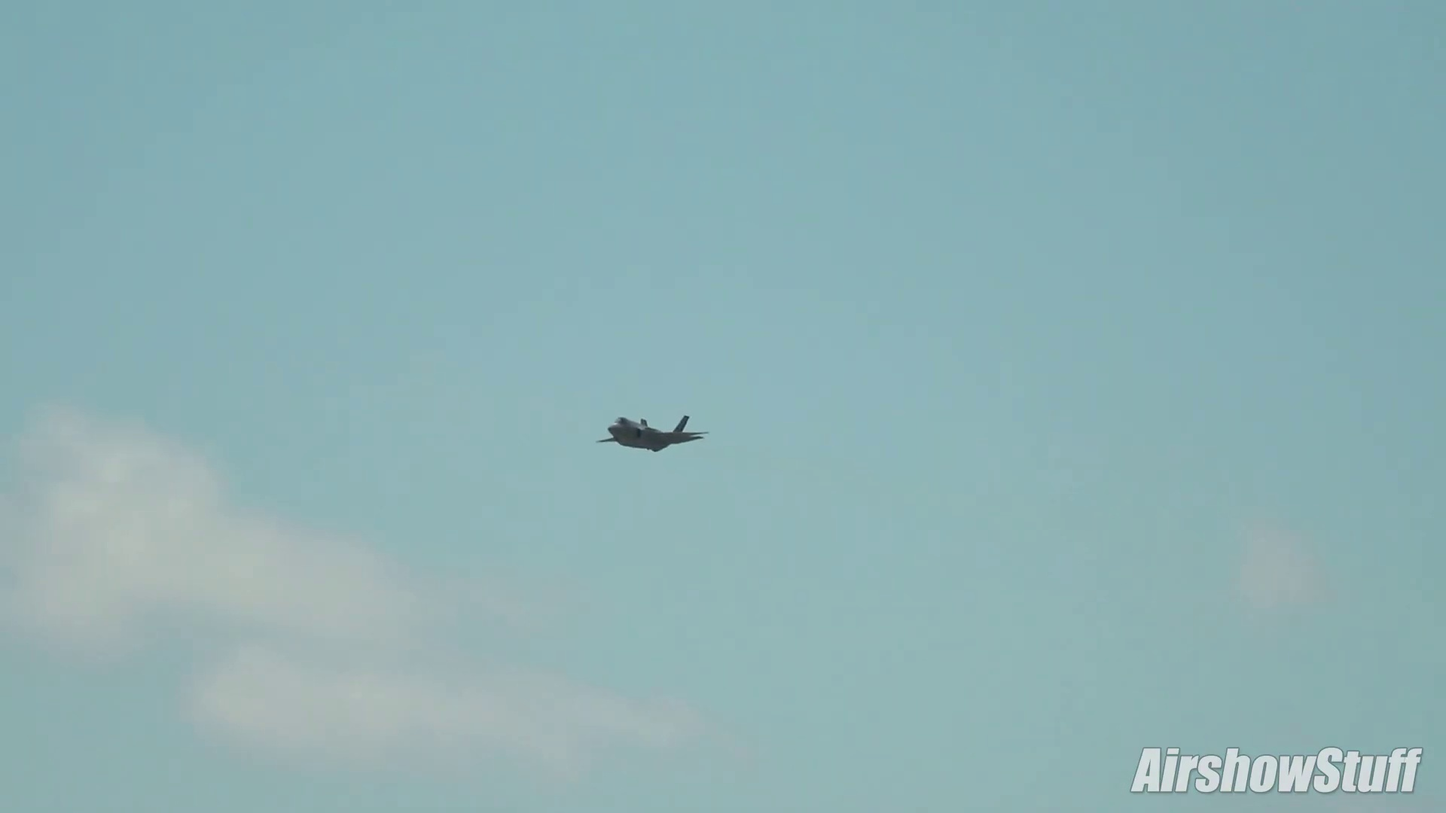F35: (593, 410, 713, 456)
